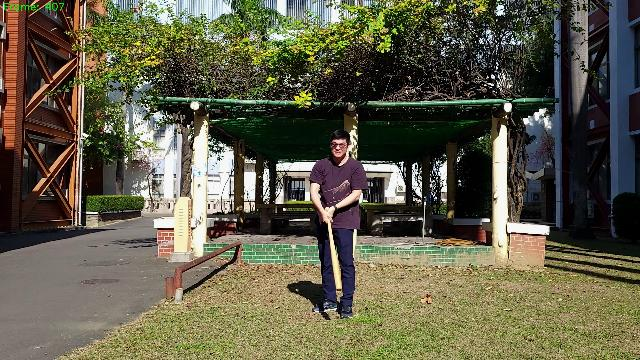baseball bat: (326, 221, 342, 292)
